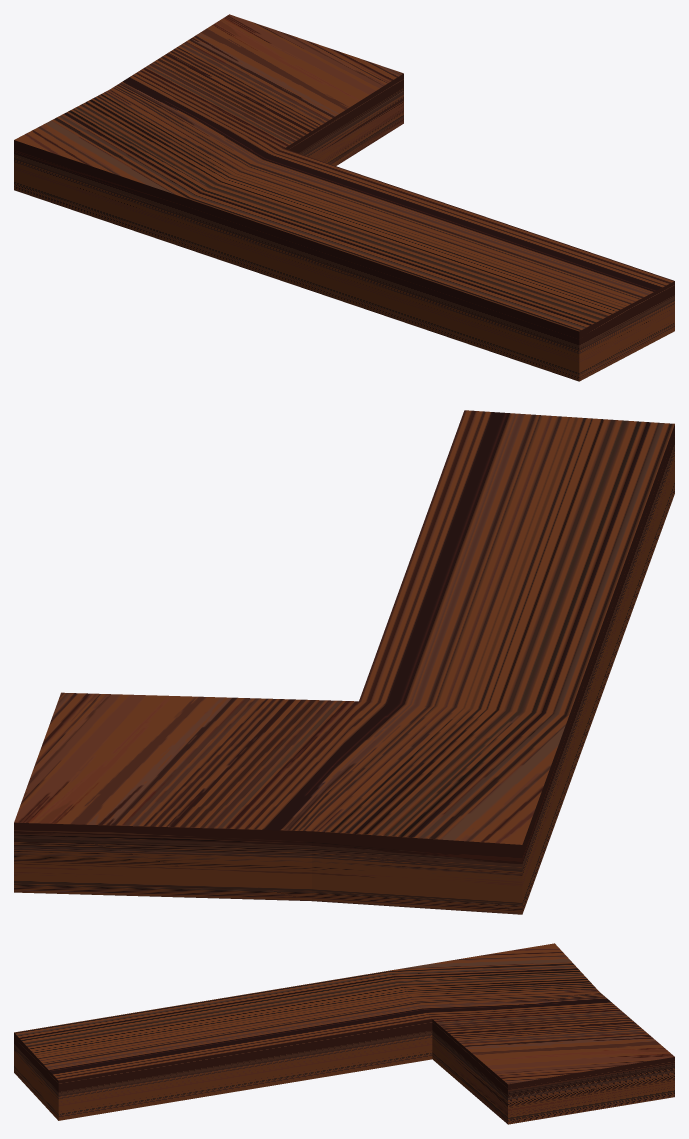
Rendered from prateleira.fbx.
3 renders of one model, top to bottom at view 1: azimuth 30°, elevation 25°; view 2: azimuth 150°, elevation 25°; view 3: azimuth 270°, elevation 25°, orthographic. The views are drawn at different scales.
Parts seen in each view (by area): view 1: Cube.006; view 2: Cube.006; view 3: Cube.006.
Part boxes in pixels (bbox=[...]): Cube.006: bbox=[14, 14, 674, 381]; Cube.006: bbox=[14, 410, 674, 914]; Cube.006: bbox=[14, 943, 674, 1124].
Bounding box in the file's own units: 75.19 × 10 × 149.
Materials: 1 (1 with a texture image).
